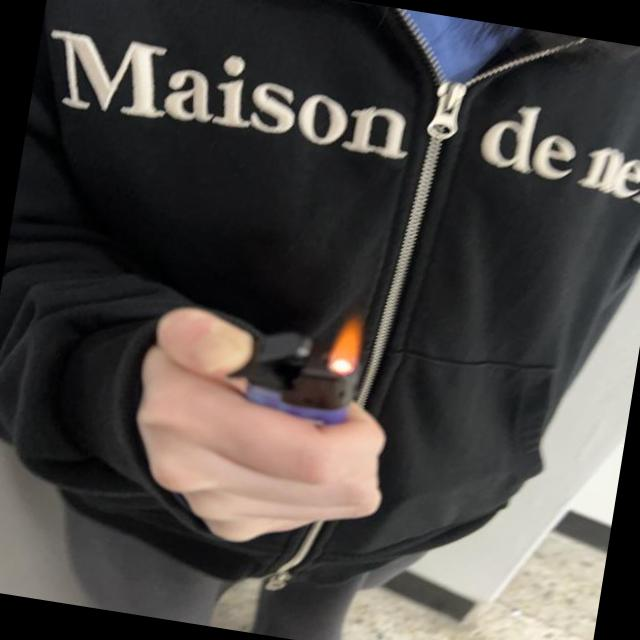Fire: (324, 310, 370, 381)
